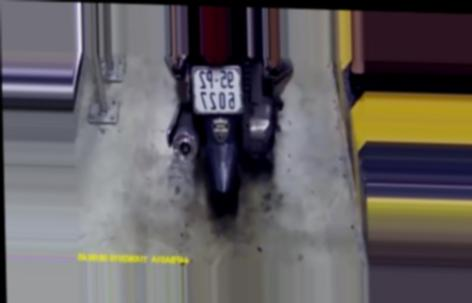License_Plate: (189, 62, 247, 118)
